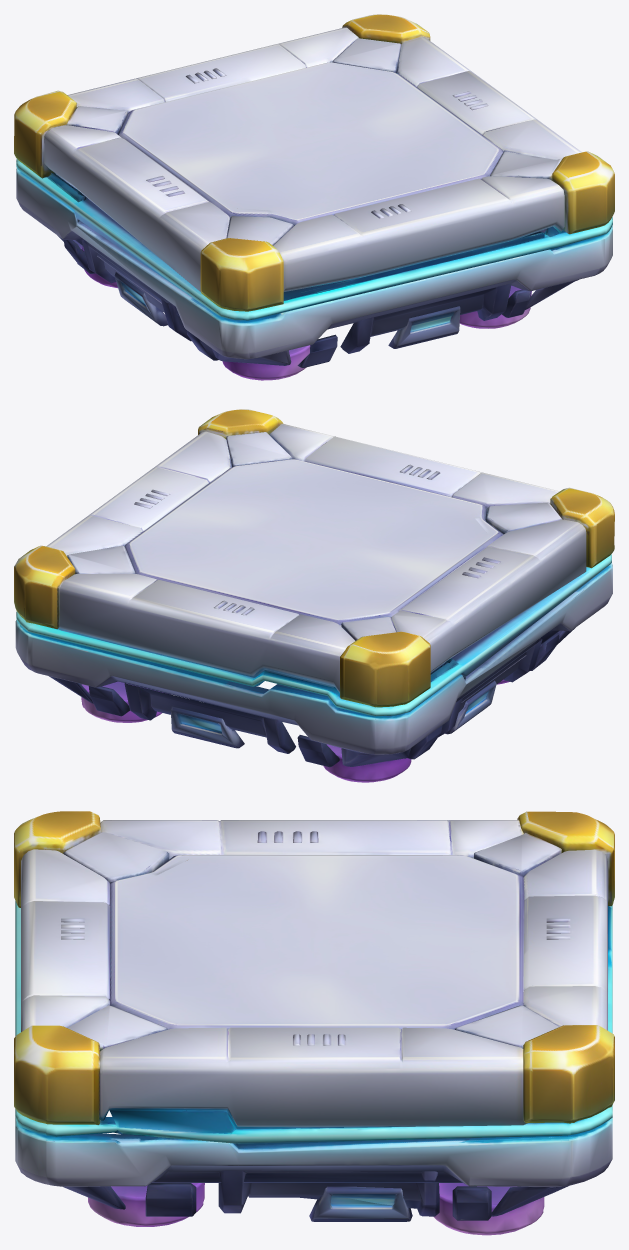
Rendered from plataforma.glb.
3 views of the same model, one above another, from view 1: azimuth 30°, elevation 25°; view 2: azimuth 150°, elevation 25°; view 3: azimuth 270°, elevation 25° (orthographic). The views are drawn at different scales.
Visible parts, largest first — view 1: tripo_node_99b3316f-0b79-4bc4-8c05-f18147c676ff; view 2: tripo_node_99b3316f-0b79-4bc4-8c05-f18147c676ff; view 3: tripo_node_99b3316f-0b79-4bc4-8c05-f18147c676ff.
Part boxes in pixels (x1,y1,x2,y2): tripo_node_99b3316f-0b79-4bc4-8c05-f18147c676ff: (14,14,614,380); tripo_node_99b3316f-0b79-4bc4-8c05-f18147c676ff: (14,409,614,782); tripo_node_99b3316f-0b79-4bc4-8c05-f18147c676ff: (14,811,614,1235).
Size of the model in its own units: 0.5241 by 0.2 by 0.5241.
Materials: 1 (1 with a texture image).
